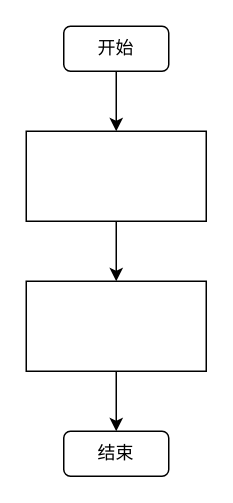
The diagram is 233 pixels wide and 503 high, and some of its shapes have lost their labels. The shapes that lost their labels are listed below. From the top down, each one's centre as x and y in pixels, then its label:
pixel 115 175: 将客户端IP地址填入套接口地址结构
pixel 115 325: 创建一个UDP套接口函数，调用dg_cli函数
